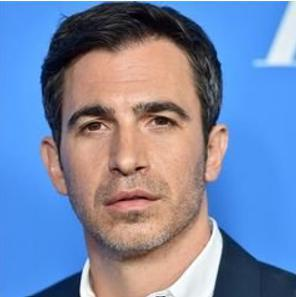Sober: (69, 51, 203, 246)
